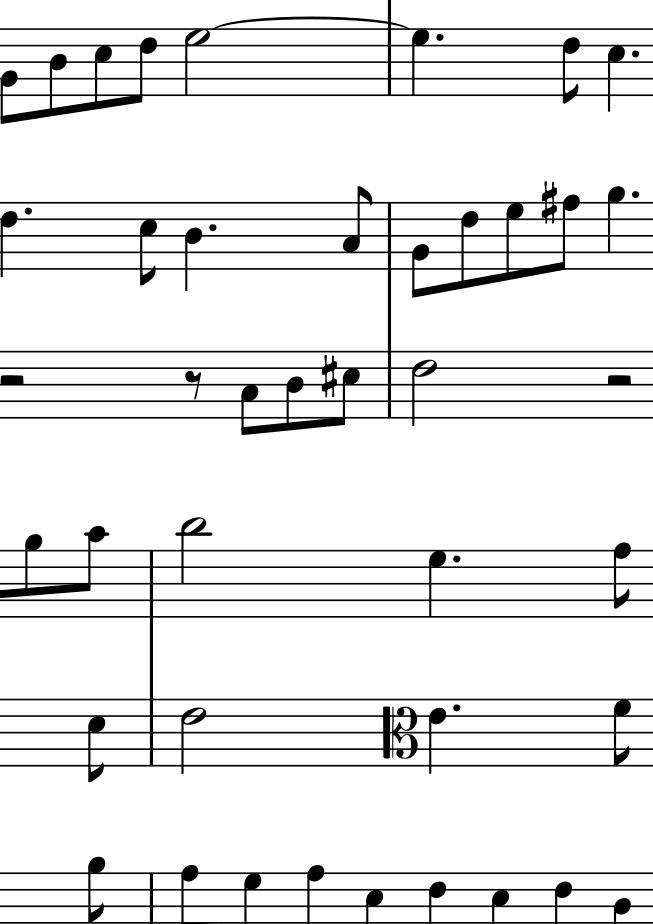2_11: (178, 516, 209, 617)
2_6: (410, 350, 437, 427), (179, 699, 205, 775)
2_7: (183, 27, 208, 98)
4_4: (183, 201, 203, 294)
4_5: (606, 27, 627, 116)
4_6: (427, 698, 447, 773)
4_7: (410, 27, 432, 96), (426, 549, 448, 618)
8_10: (76, 523, 106, 618)
8_2: (410, 200, 431, 299), (1, 27, 20, 125)
8_3: (340, 185, 369, 272), (239, 350, 261, 438)
8_4: (48, 28, 68, 118), (284, 349, 305, 433)
8_5: (334, 351, 361, 427), (138, 200, 158, 288), (86, 698, 106, 785), (93, 25, 112, 111)
8_6: (130, 26, 160, 106), (459, 200, 480, 292), (561, 27, 581, 107)
8_7: (504, 200, 526, 281), (612, 697, 632, 768)
8_8: (553, 193, 581, 272), (611, 541, 633, 619)
8_9: (606, 185, 626, 272), (23, 532, 43, 619)
Cclef: (380, 698, 419, 767)
Rests2: (604, 373, 634, 388), (1, 372, 28, 388)
Rests8: (184, 368, 205, 400)
Sharp: (319, 352, 339, 400), (540, 179, 558, 226)
Single_barline: (143, 699, 161, 762), (143, 551, 160, 616), (381, 30, 398, 94), (382, 350, 398, 416), (382, 203, 397, 269)
Slur: (214, 15, 414, 29)
dot: (204, 220, 219, 235), (449, 700, 464, 715), (628, 46, 642, 60), (433, 30, 446, 45), (21, 204, 34, 218), (450, 552, 462, 566), (629, 188, 641, 200)
